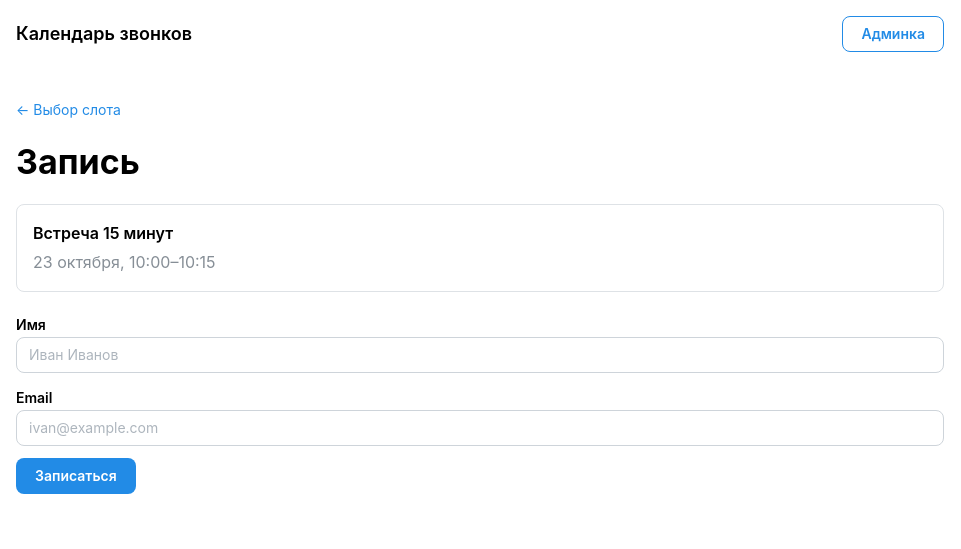
Test case: confirm: пустое имя и неверный формат email блокируют отправку
The image size is (961, 549).
Check: the heading "Запись" is shown, box [16,141,140,182]
Note: Пустое имя: submit блокируется, форма остаётся на месте.
Step 1. Click the button "Записаться" → (76, 476), box [16,458,136,494]
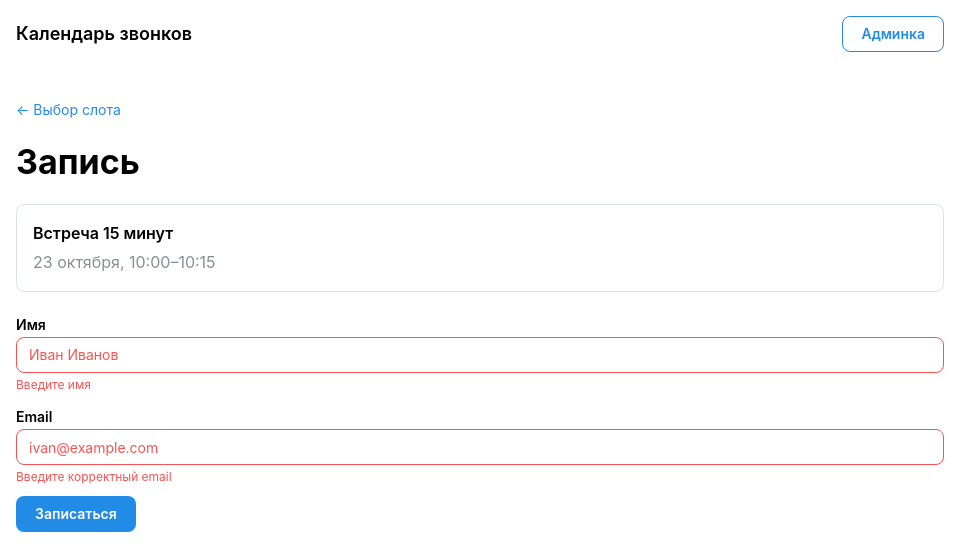
Check: the text "Введите имя" is shown, box [16,377,91,392]
Note: Неверный формат email: та же проверка, что у сервера.
Step 2. Type "Иван" into the field labelled "Имя" → (480, 355), box [16,337,944,373]
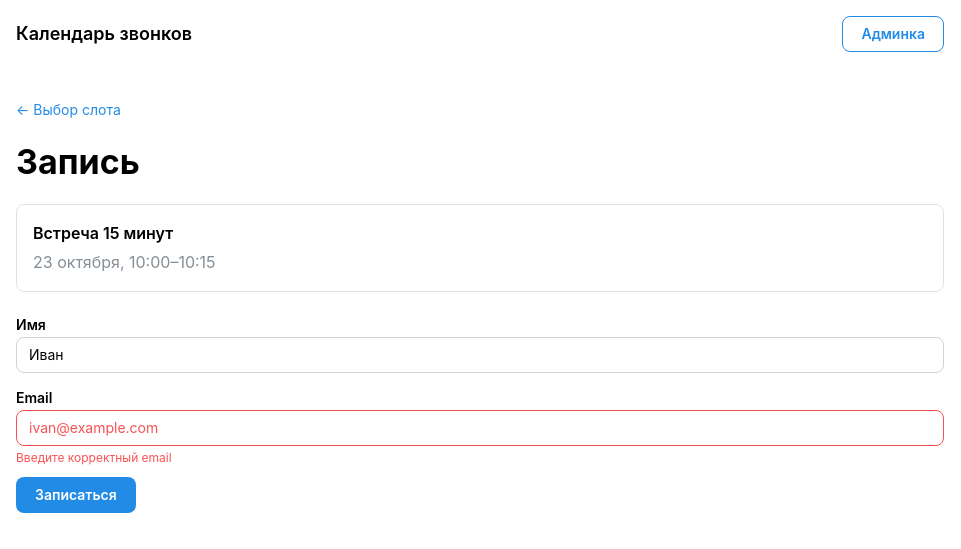
Step 3. Type "ivan(at)example" into the field labelled "Email" → (480, 428), box [16,410,944,446]
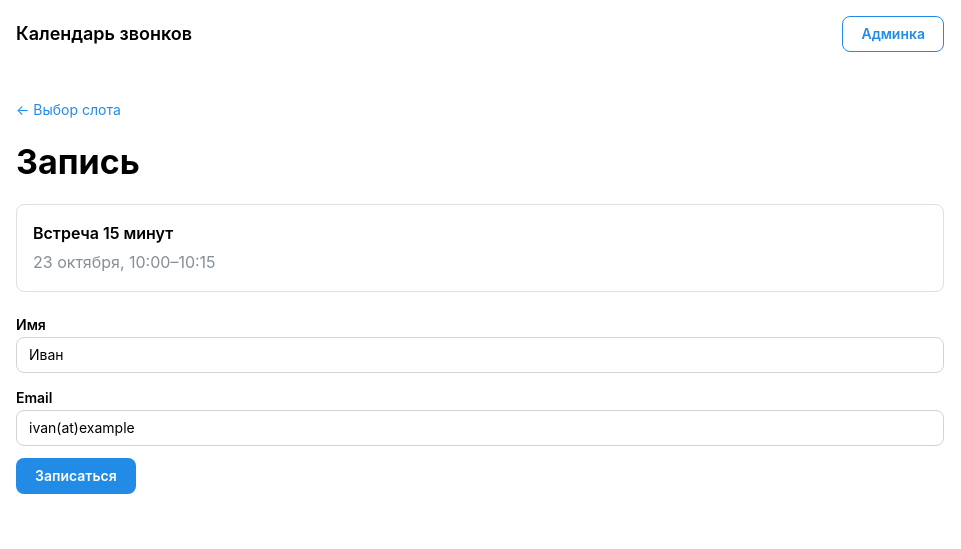
Step 4. Click the button "Записаться" → (76, 476), box [16,458,136,494]
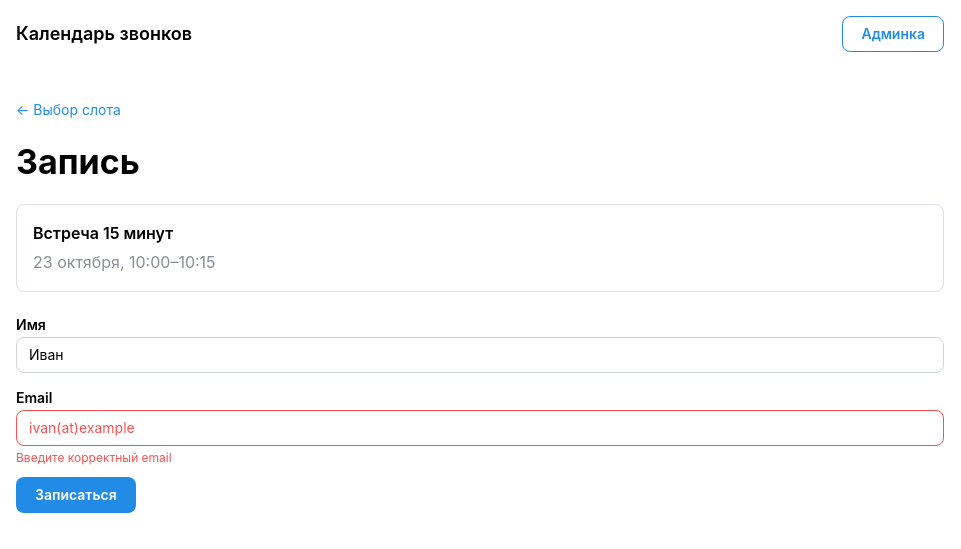
Check: the text "Введите корректный email" is shown, box [16,450,172,465]
